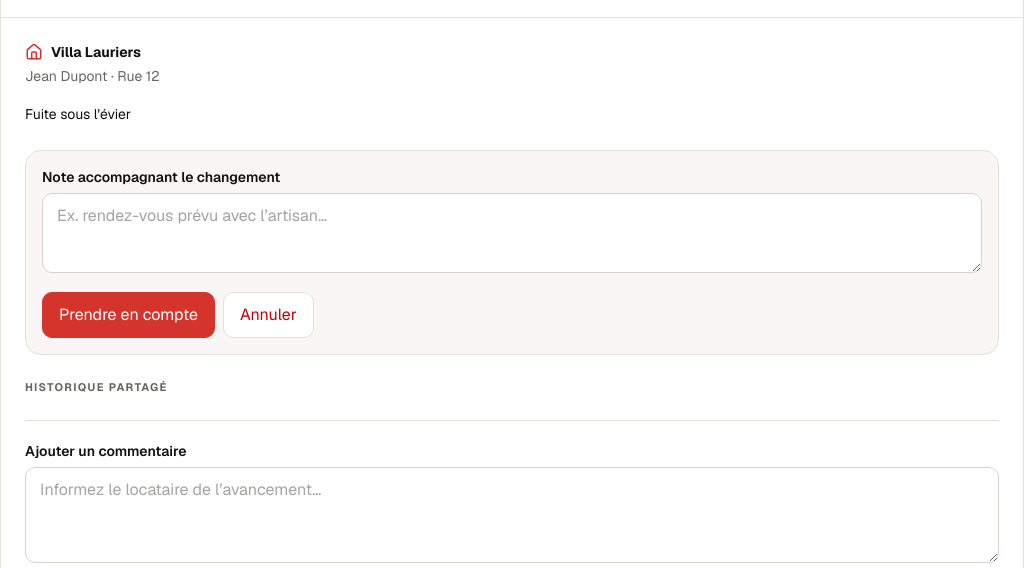
it: MaintenanceWorkspace › updates incident status on transition click
This screenshot has width=1024, height=568.
(page scrolled)
Click the button "Prendre en compte".
click(128, 315)  # box [42,292,215,338]
(page scrolled)
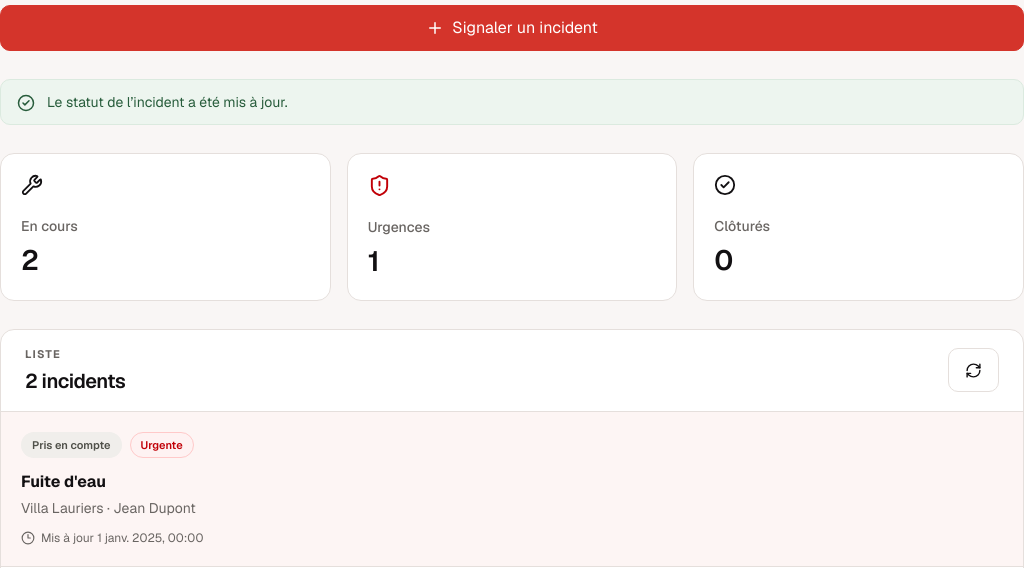
Now the message shows "mis à jour", box [47,93,288,111]
